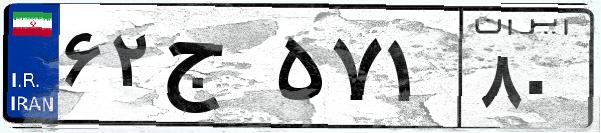0: (525, 38, 570, 115)
1: (385, 28, 445, 110)
2: (110, 28, 158, 98)
5: (270, 28, 330, 110)
6: (57, 26, 110, 100)
7: (330, 28, 385, 110)
8: (475, 38, 525, 113)
ج: (158, 20, 270, 120)
